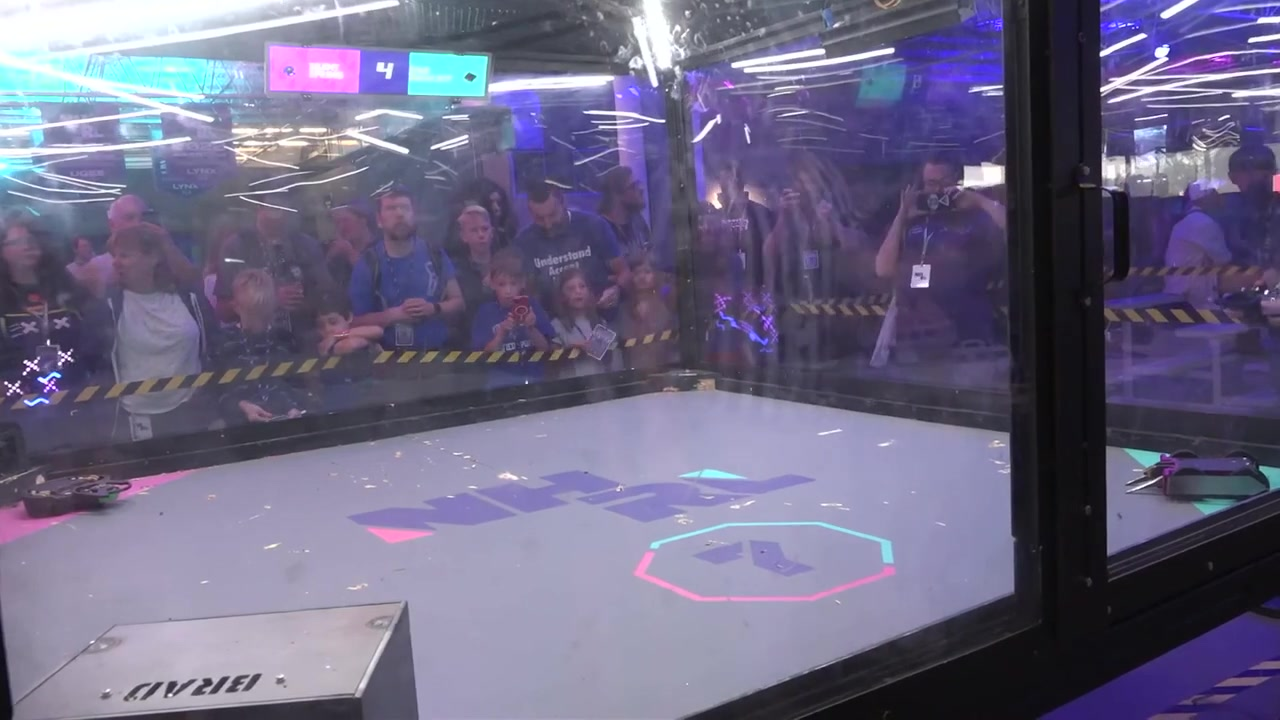combatbot: (1130, 447, 1271, 499), (25, 471, 136, 518)
housebot: (13, 595, 423, 720)
